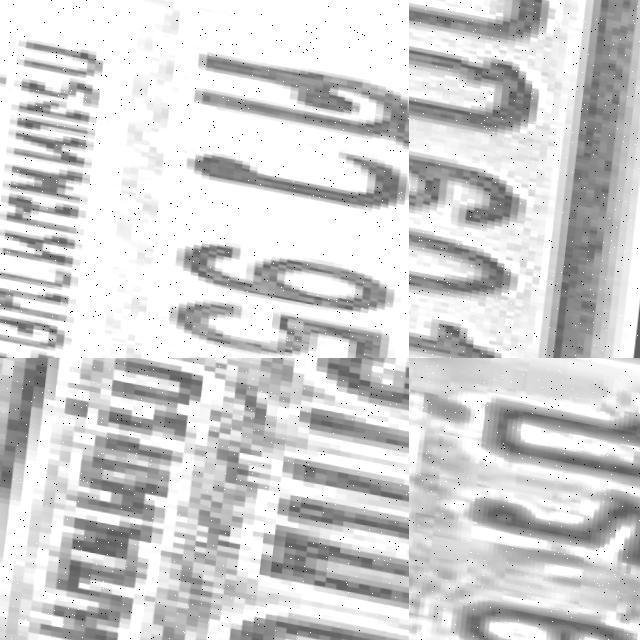license-plate: (0, 0, 409, 358), (0, 358, 409, 640), (409, 0, 640, 358), (409, 358, 640, 640)
